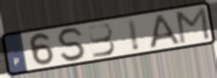6: (28, 31, 56, 67)
A: (149, 12, 182, 50)
B: (86, 22, 117, 59)
I: (125, 17, 142, 53)
M: (175, 5, 212, 46)
S: (55, 26, 89, 63)
